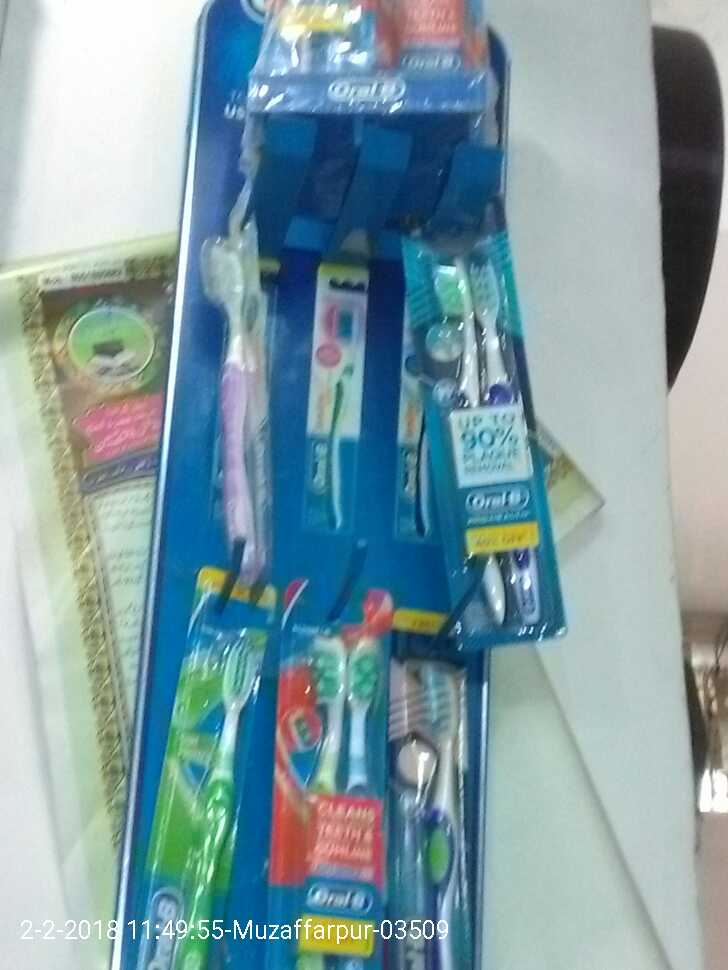oralb: (422, 227, 572, 646), (200, 207, 286, 564)
